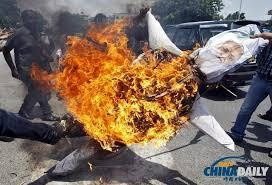fire: (31, 12, 210, 154)
